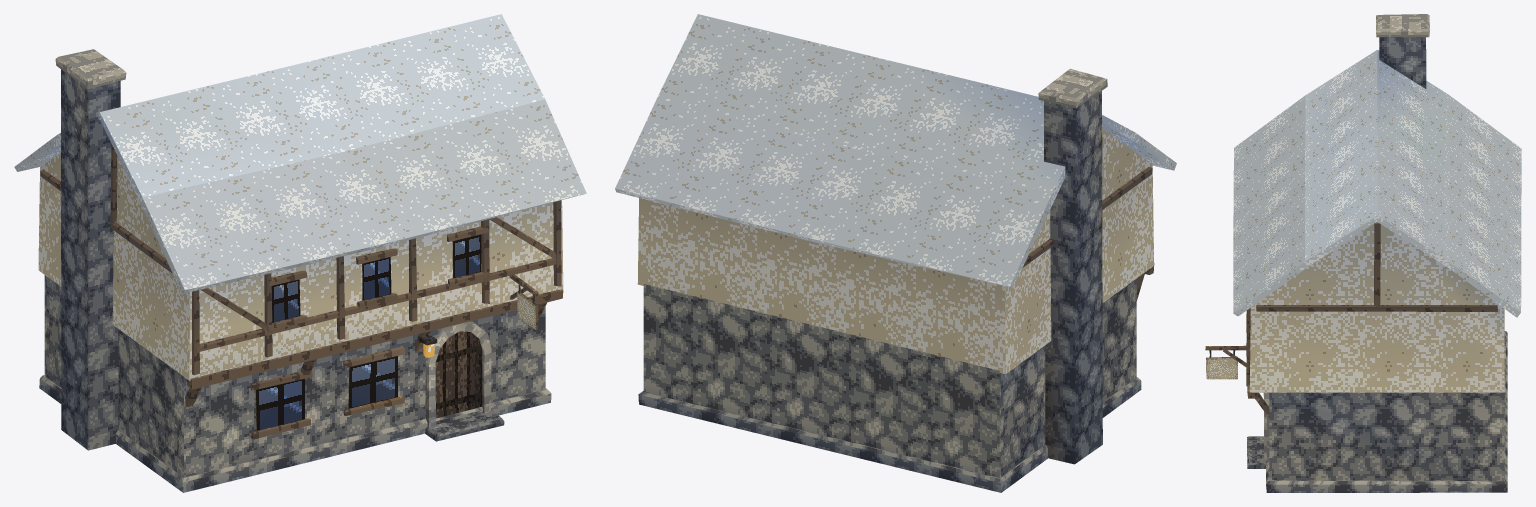
Rendered from vlg.tavern.glb.
3 views of the same model, side by side, from view 1: azimuth 30°, elevation 25°; view 2: azimuth 150°, elevation 25°; view 3: azimuth 270°, elevation 25° (orthographic). The views are drawn at different scales.
Visible parts, largest first — view 1: kit_roof, kit_walls, kit_stonework, kit_fittings, kit_frame; view 2: kit_walls, kit_roof, kit_stonework, kit_frame; view 3: kit_walls, kit_roof, kit_stonework, kit_frame, kit_fittings.
Boxes of the visible parts, bbox=[...] form: kit_roof: bbox=[14, 14, 586, 293]; kit_walls: bbox=[38, 152, 563, 477]; kit_stonework: bbox=[39, 49, 551, 492]; kit_fittings: bbox=[250, 226, 538, 441]; kit_frame: bbox=[40, 144, 563, 407]; kit_walls: bbox=[637, 128, 1154, 477]; kit_roof: bbox=[615, 14, 1176, 287]; kit_stonework: bbox=[638, 68, 1141, 492]; kit_frame: bbox=[1022, 166, 1154, 300]; kit_walls: bbox=[1249, 222, 1504, 481]; kit_roof: bbox=[1233, 50, 1521, 317]; kit_stonework: bbox=[1266, 14, 1507, 492]; kit_frame: bbox=[1246, 223, 1497, 417]; kit_fittings: bbox=[1205, 314, 1269, 468].
Bounding box in the file's own units: 10.35 × 8.87 × 8.06.
Materials: 11 (11 with a texture image).
